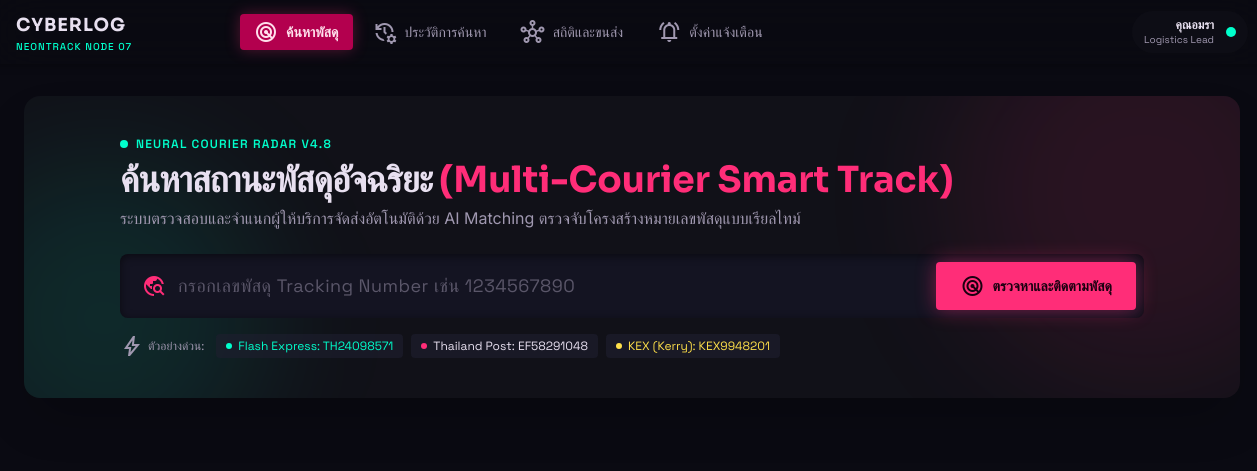
Flow 1: search with tracking code › TC003 empty code shows error
Click the button "ตรวจหาและติดตามพัสดุ". click: (1036, 286)
box: x1=936 y1=262 x2=1136 y2=310
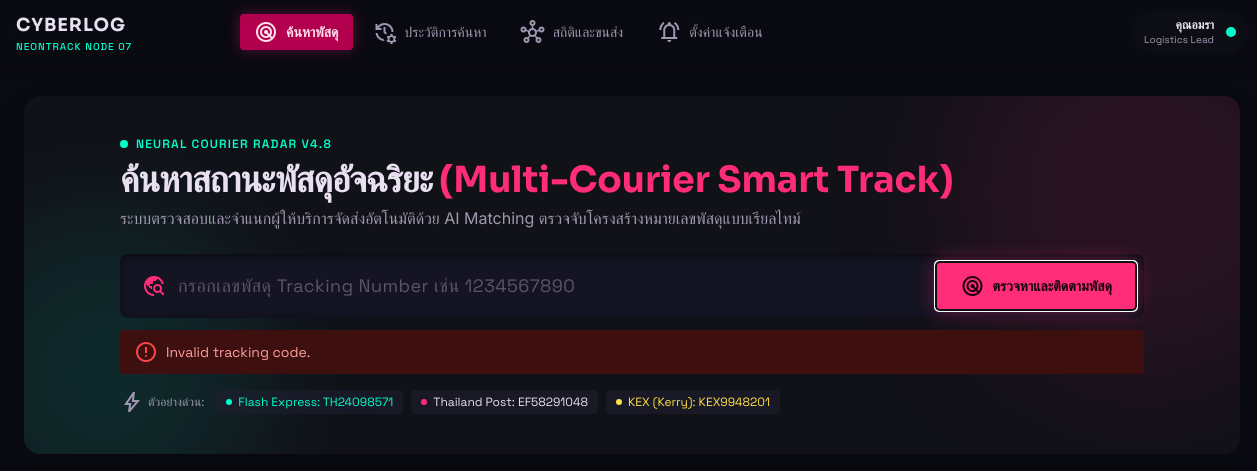
Result: the message reads "Invalid tracking code." at x1=166 y1=343 x2=310 y2=361
